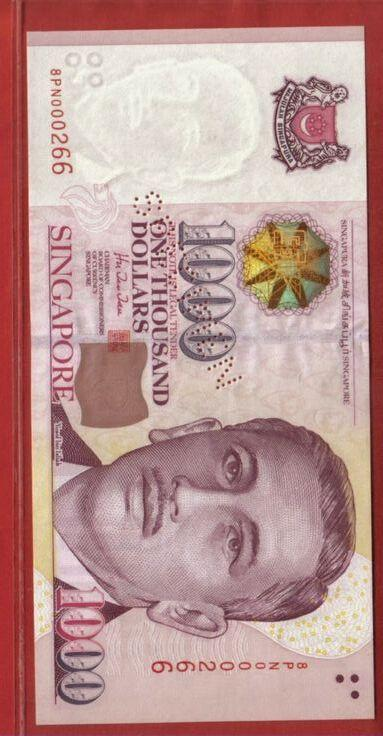1000SingaporeDollar: (37, 33, 364, 716)
